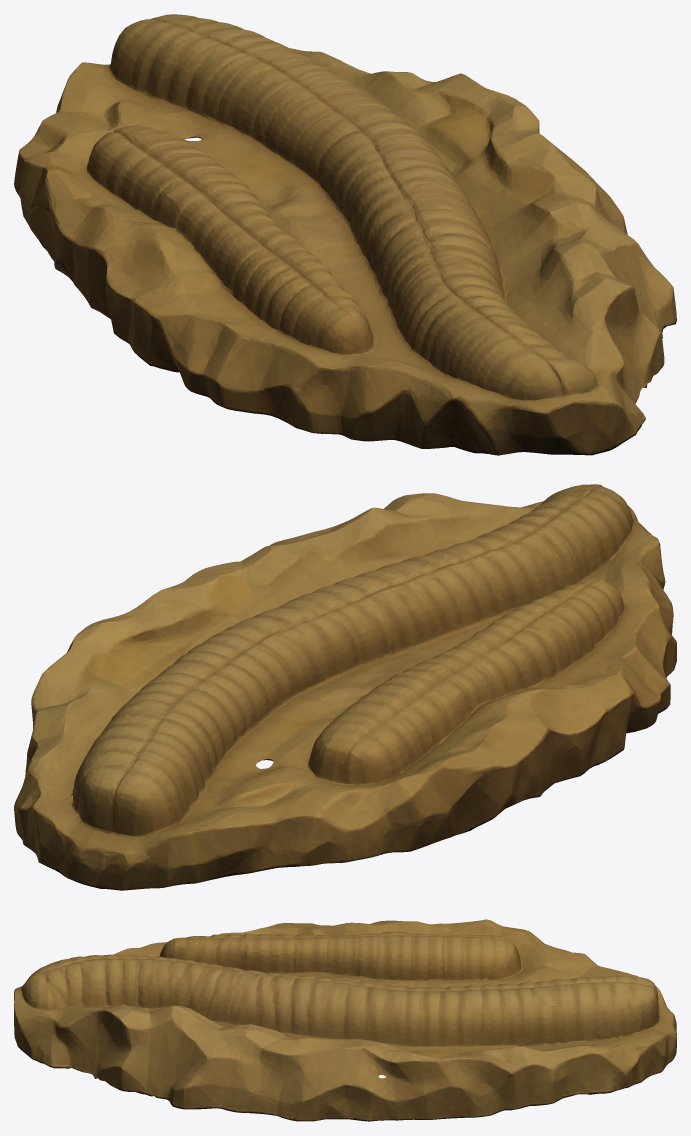
The picture shows the model from 3 angles, top to bottom: view 1: azimuth 30°, elevation 25°; view 2: azimuth 150°, elevation 25°; view 3: azimuth 270°, elevation 25°; orthographic projection. The views are drawn at different scales.
Visible parts, largest first — view 1: world; view 2: world; view 3: world.
Boxes of the visible parts, x1,y1,x2,y2 form: world: [14, 14, 676, 455]; world: [14, 484, 676, 890]; world: [14, 919, 676, 1121].
Size of the model in its own units: 0.5756 by 0.1221 by 0.9993.
Materials: 1 (1 with a texture image).
